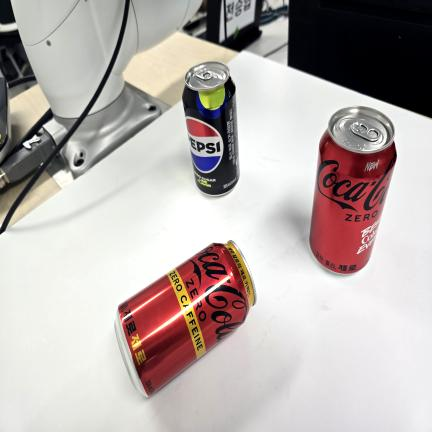can_coke_decaf: (112, 237, 256, 401)
can_coke_zero: (307, 106, 399, 276)
can_pepsi_zero: (182, 59, 241, 196)
